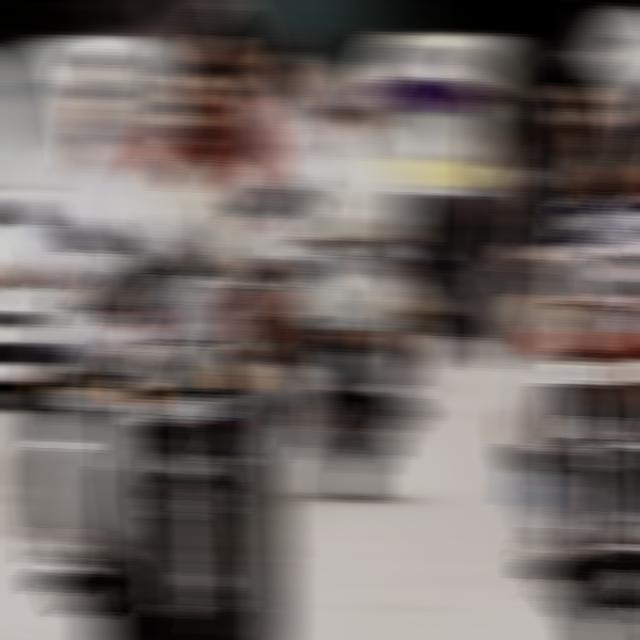Without Helmet: (148, 42, 230, 163), (546, 54, 620, 160)
